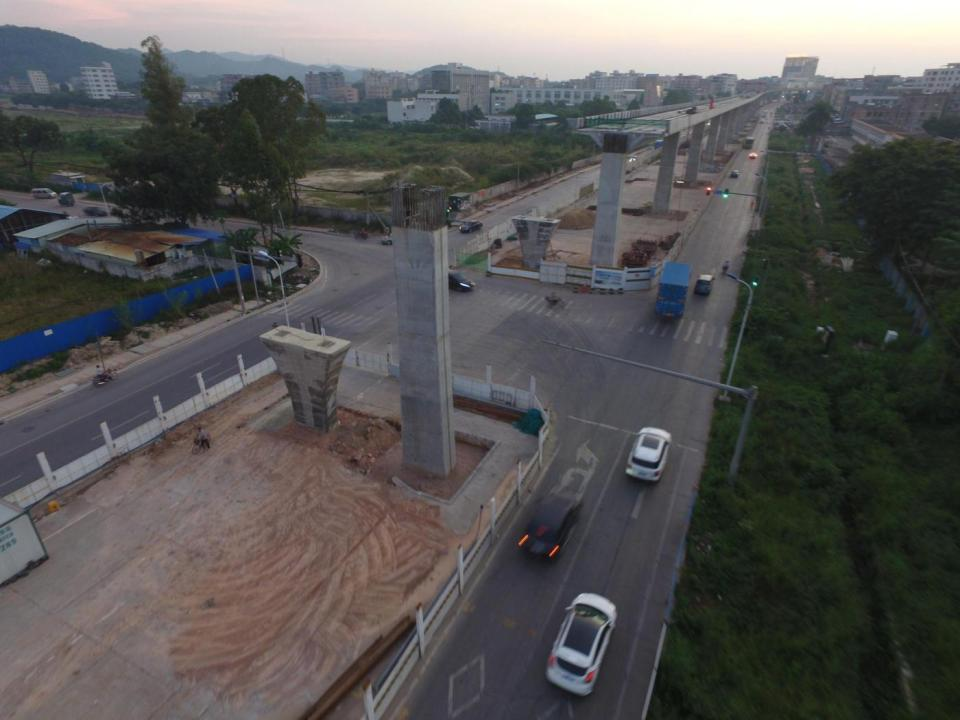bus: (744, 136, 754, 149)
car: (550, 592, 618, 699), (526, 492, 578, 559), (625, 426, 670, 484), (436, 267, 478, 293), (380, 230, 410, 245), (459, 219, 483, 232), (83, 206, 105, 217), (730, 169, 739, 177), (749, 153, 756, 158)
truck: (654, 261, 691, 320), (654, 133, 676, 150)
van: (694, 274, 714, 294), (30, 188, 58, 199)
